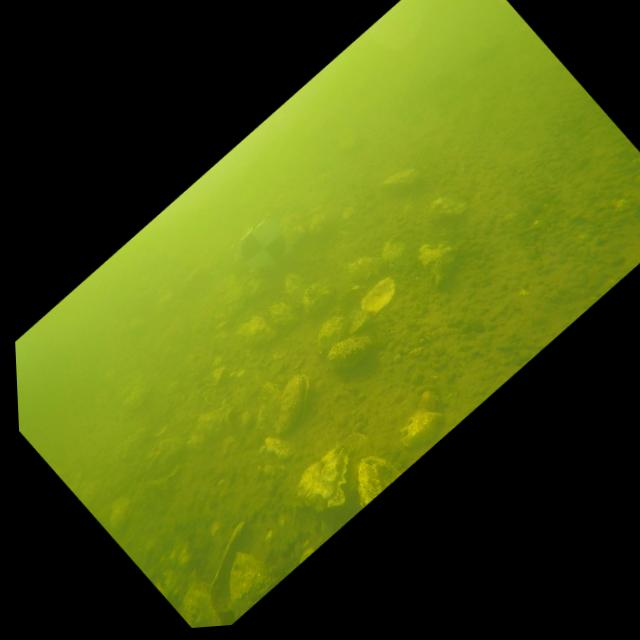Oyster-Closed: (298, 444, 348, 511), (348, 242, 406, 281), (358, 456, 401, 507), (188, 404, 233, 448), (275, 372, 305, 433), (419, 244, 457, 286), (328, 336, 373, 371), (401, 411, 444, 447), (318, 316, 351, 353), (236, 315, 276, 345), (302, 283, 332, 314), (123, 382, 152, 411), (224, 279, 247, 315), (270, 301, 300, 328), (429, 197, 467, 215), (286, 272, 309, 301), (343, 206, 354, 219)
Oyster-Indeterminate: (230, 552, 270, 602), (255, 378, 284, 435), (146, 438, 183, 480), (184, 590, 223, 628), (110, 496, 130, 528), (265, 437, 293, 459), (382, 169, 420, 185)
Oyster-Open: (209, 522, 252, 601), (350, 277, 396, 333)
